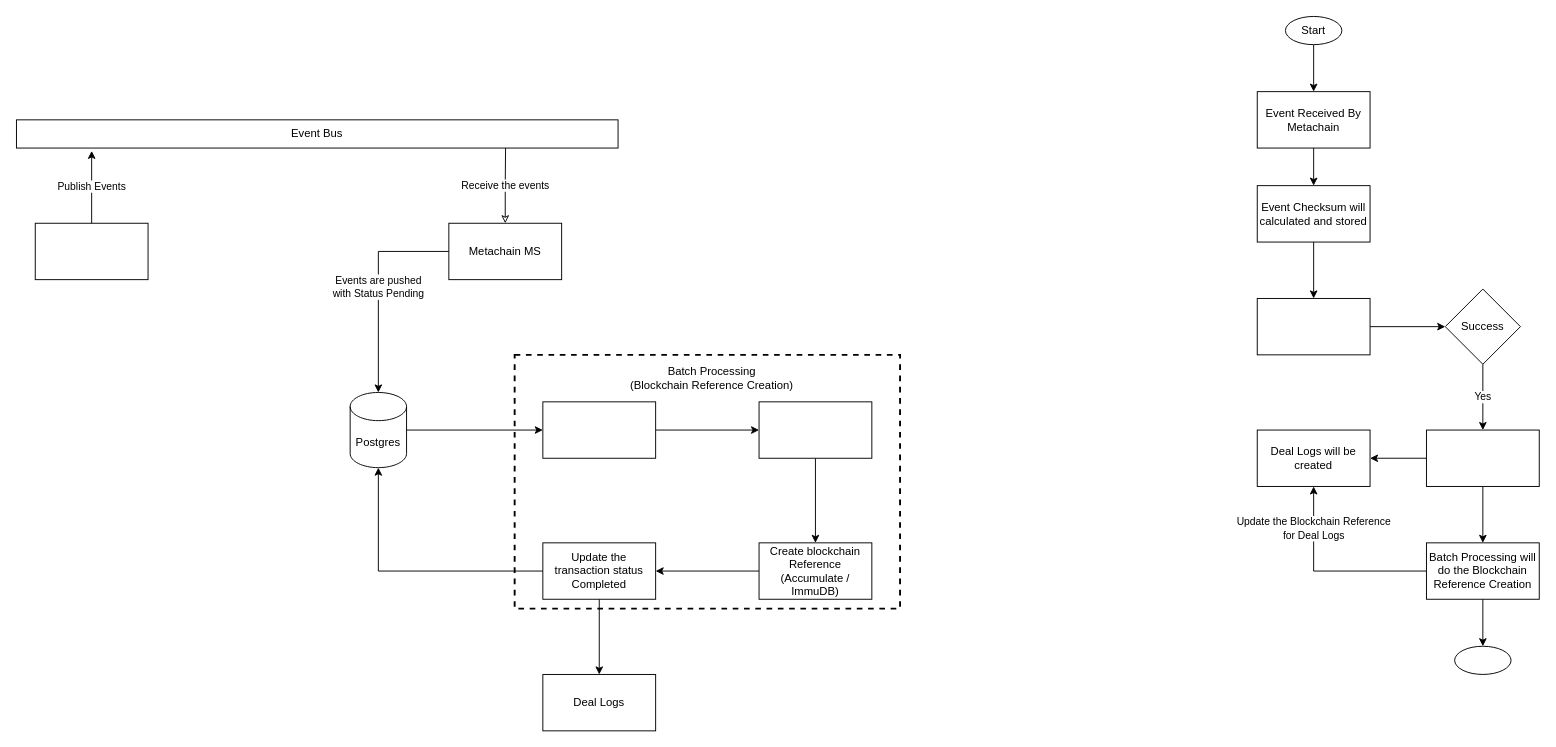
Some shapes in this 1556 by 747 pixel diagram are drawn without their labels. The centre of each missing label's shape, as x and y in pixels:
All MS: [91,251]
Create Batch of Events: [815,429]
End: [1482,659]
Fetch Pending Events: [599,429]
Metachain Reference will be created in ImmuDB: [1313,326]
Received Transaction will be saved as Pending for Batch Processor: [1482,457]
